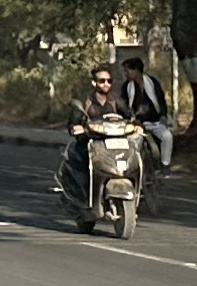BikeWithRider: (44, 56, 162, 240)
NoHelmet: (117, 53, 149, 85), (86, 62, 116, 94)
